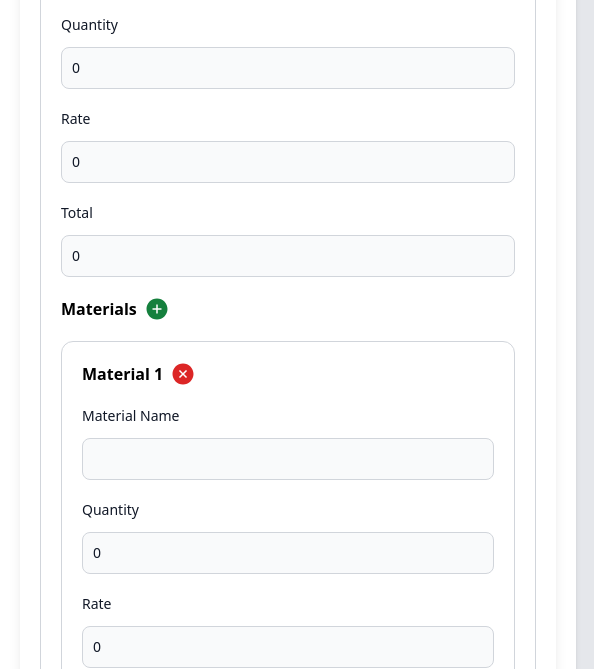
it: DynamicForm Component › adds a new material when clicking the "+" button
(page scrolled)
Click the button named "Add Material": click(157, 309) [145,297,169,321]
(page scrolled)
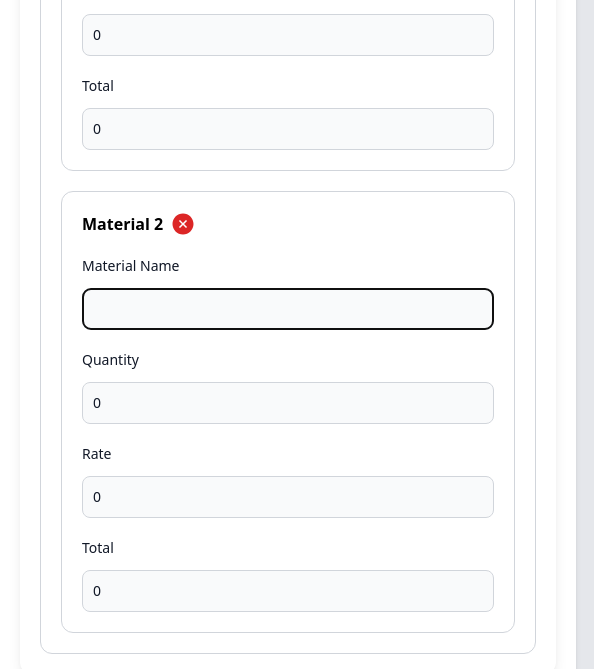
Expected: the heading "Material 2" is shown, [82,212,163,236]
